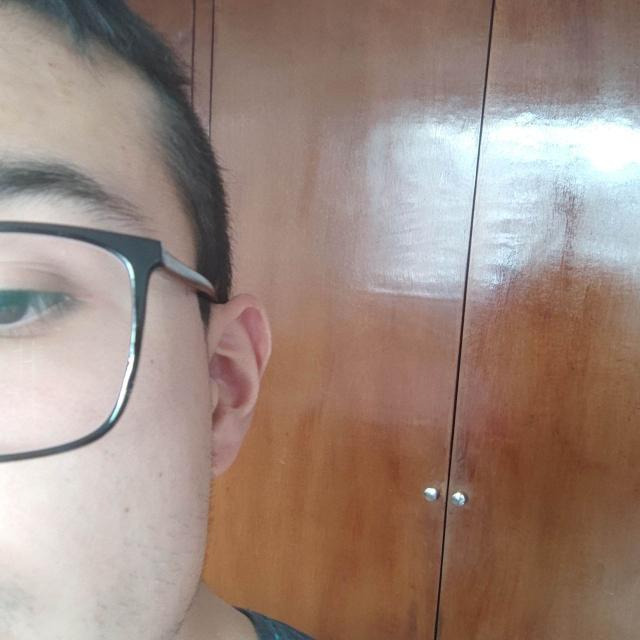ear: (208, 294, 271, 476)
